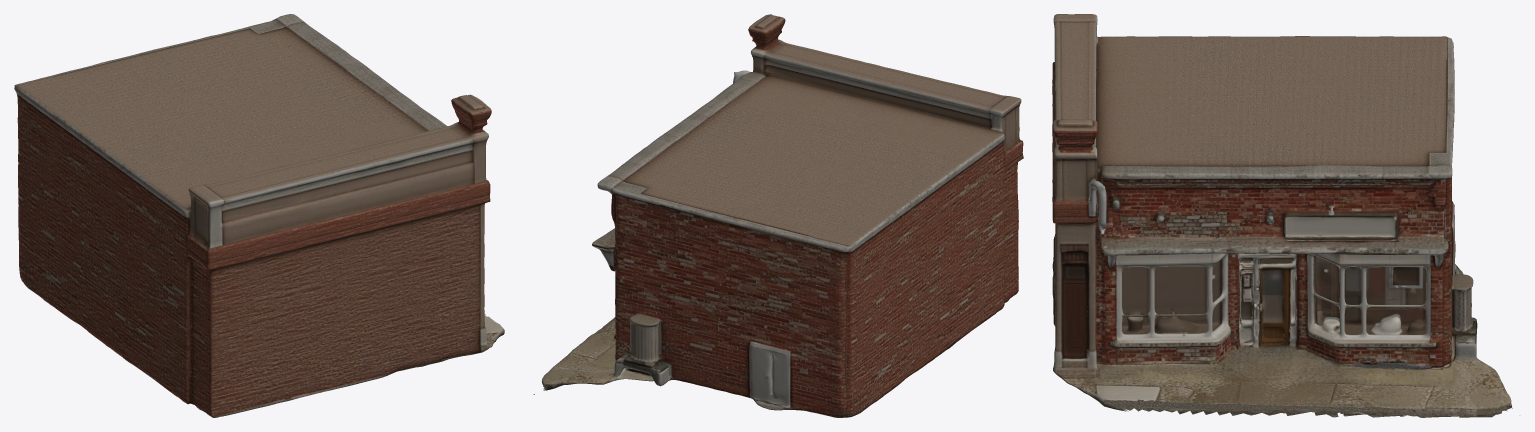
File: barber.glb
3 views of the same model, side by side, from view 1: azimuth 30°, elevation 25°; view 2: azimuth 150°, elevation 25°; view 3: azimuth 270°, elevation 25° (orthographic). The views are drawn at different scales.
Visible parts, largest first — view 1: tripo_node_bb601534-ffd0-43c8-aeb4-d3900e0d09da; view 2: tripo_node_bb601534-ffd0-43c8-aeb4-d3900e0d09da; view 3: tripo_node_bb601534-ffd0-43c8-aeb4-d3900e0d09da.
Part boxes in pixels (<box>): tripo_node_bb601534-ffd0-43c8-aeb4-d3900e0d09da: <box>14,14,504,417</box>; tripo_node_bb601534-ffd0-43c8-aeb4-d3900e0d09da: <box>533,14,1023,417</box>; tripo_node_bb601534-ffd0-43c8-aeb4-d3900e0d09da: <box>1052,14,1512,417</box>.
Size of the model in its own units: 0.7542 by 0.5878 by 0.9094.
Materials: 1 (1 with a texture image).
